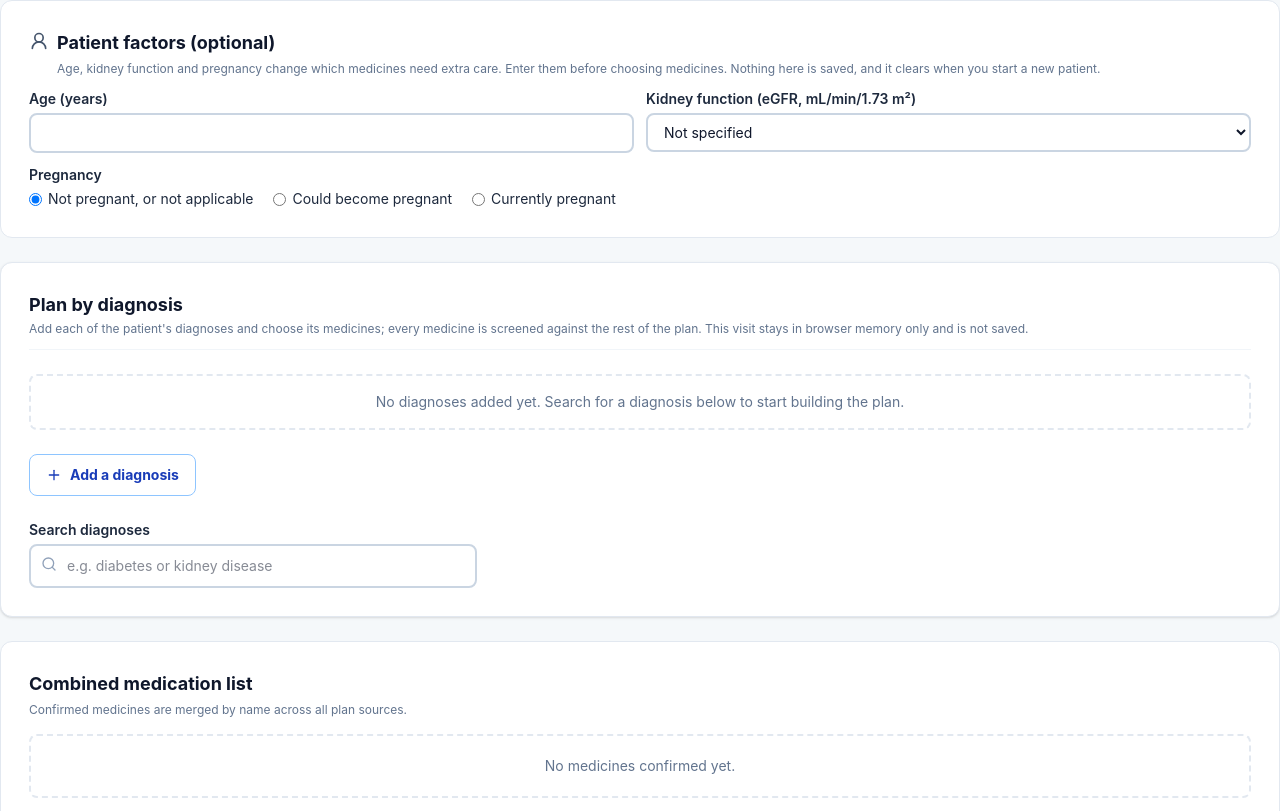
Test: diagnosis medication plan › retries a failed medicine list and shows a no-flag estimate only after screening succeeds
The width and height of the screenshot is (1280, 811).
Type "diabetes" into the dropdown labelled "Search diagnoses".
click(253, 566); type("diabetes")  # box [29,544,477,588]
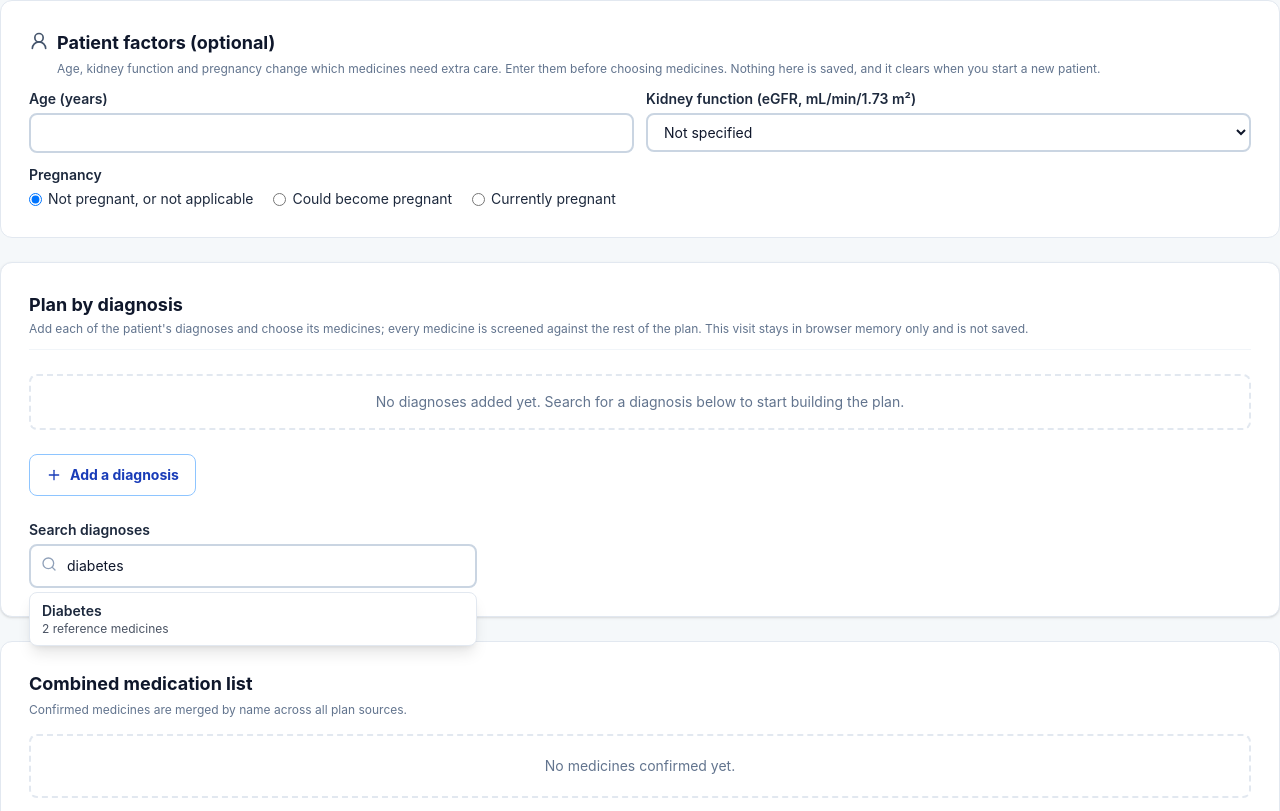
Click the option "Diabetes 2 reference medicines".
click(72, 610)  # box [30,593,476,645]
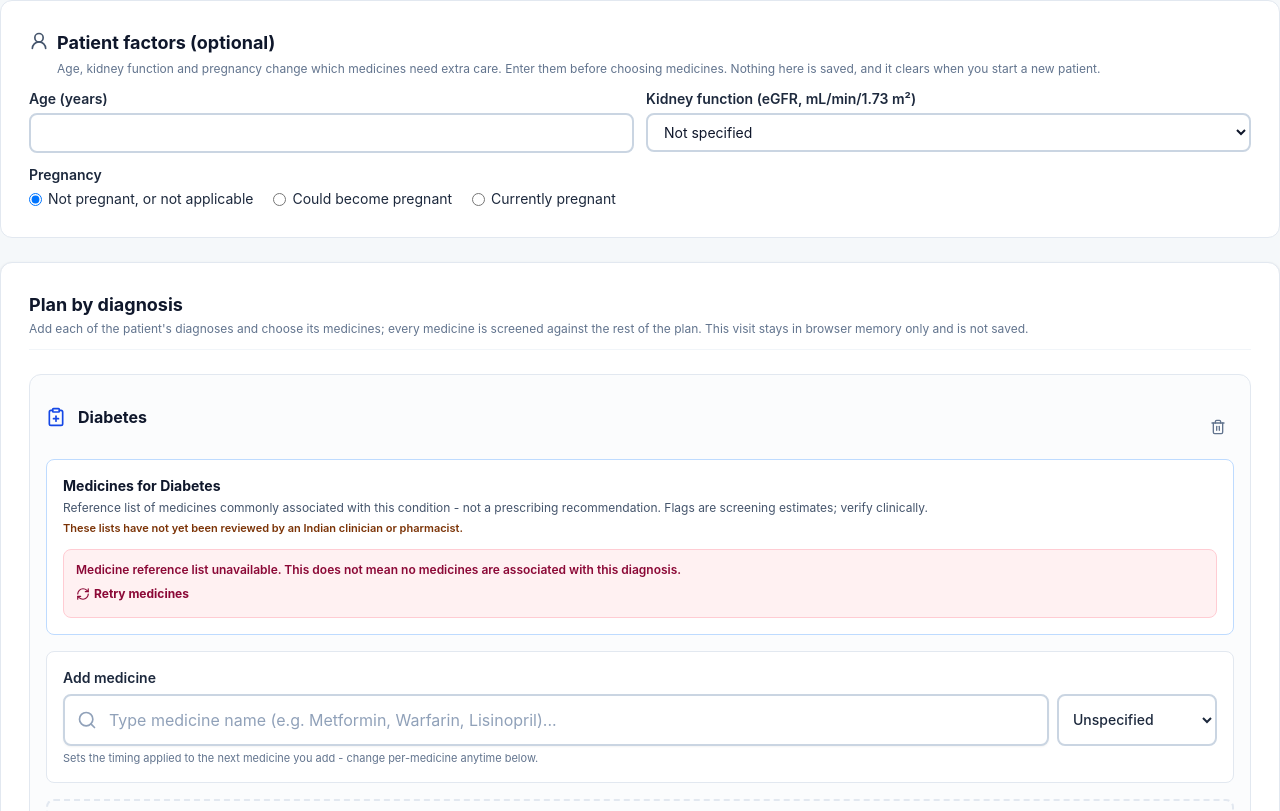
Expected: the text "No interaction found with current plan" is not shown
Result: the text "Medicine reference list unavailable" is shown at [76,562,681,576]
Click the button "Retry medicines".
click(132, 594)  # box [76,586,189,602]
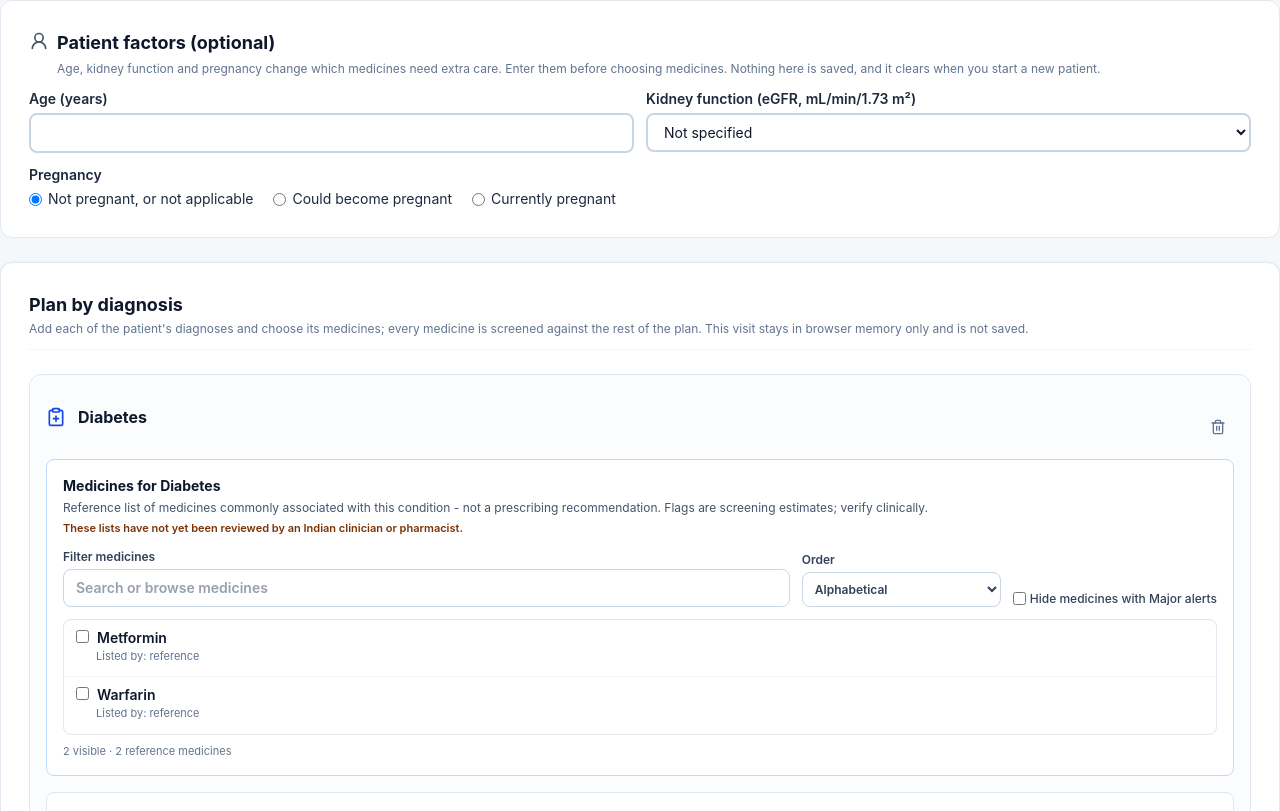
Expected: the text "No interaction found with current plan" is not shown
Result: the checkbox labelled "Metformin" is shown
Click the checkbox labelled "Metformin".
click(82, 636)  # box [76,630,89,642]
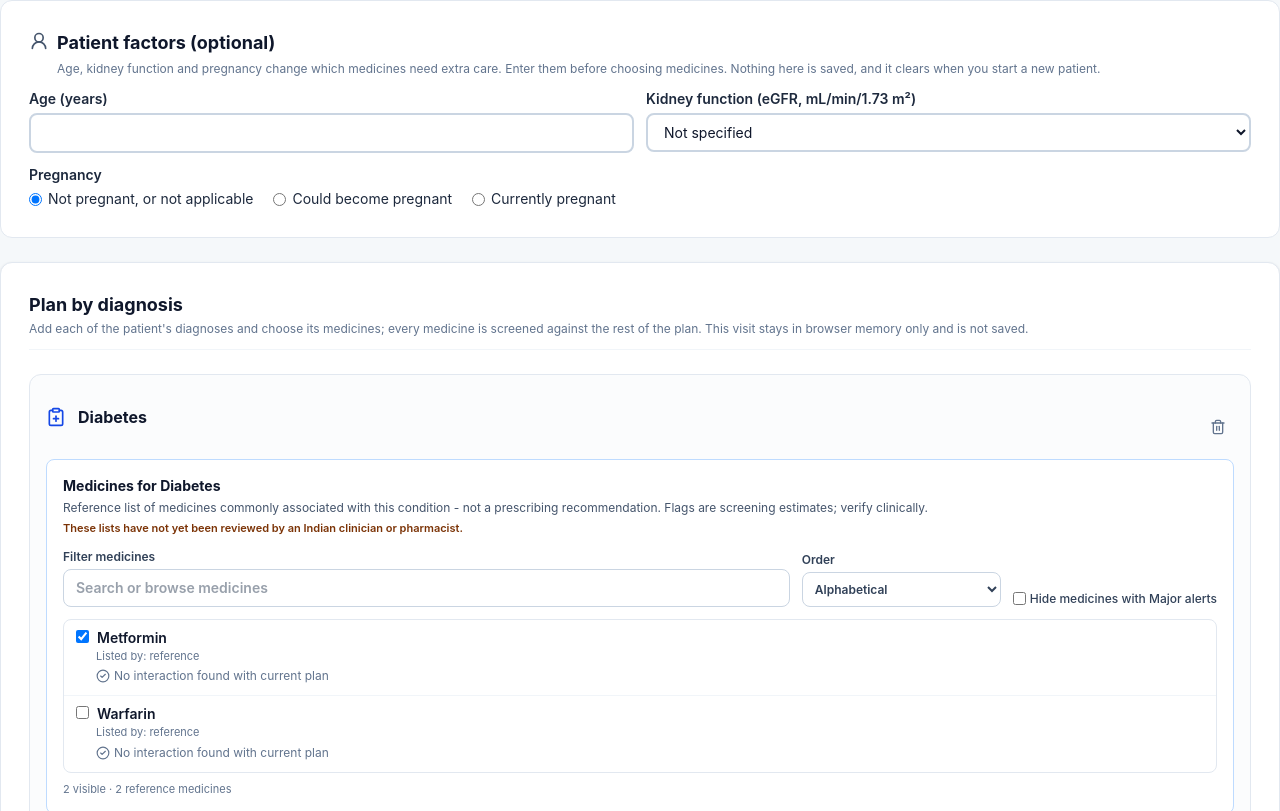
Result: the 1st text "No interaction found with current plan" is shown at [96,668,329,684]
